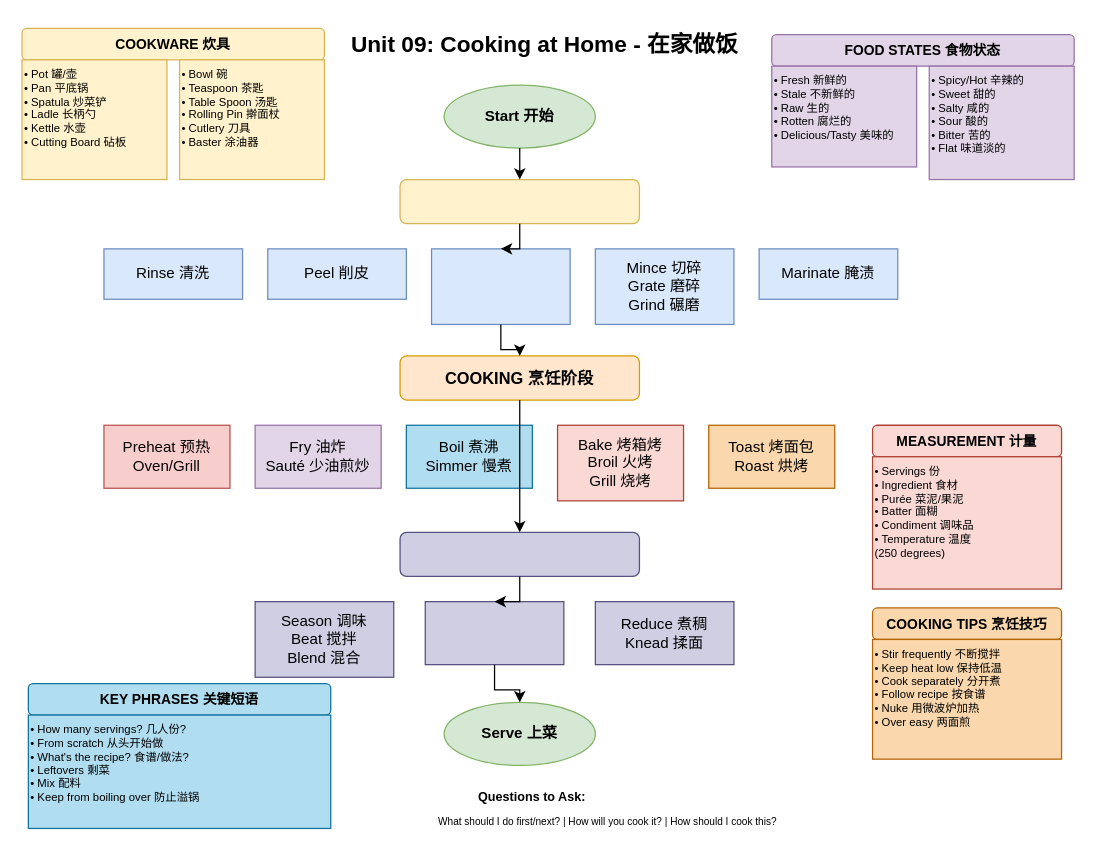
The diagram is 1096 pixels wide and 856 high, and some of its shapes have lost their labels. Here are the shapes that lost their labels. From the top down, the centre of each, then its label:
At [519,201]: "PREPARATION 准备阶段".
At [500,286]: "Chop 剁碎 Slice 切片 Dice 切块".
At [519,553]: "SEASONING 调味阶段".
At [494,632]: "Baste 涂油脂 Garnish 配菜装饰".
